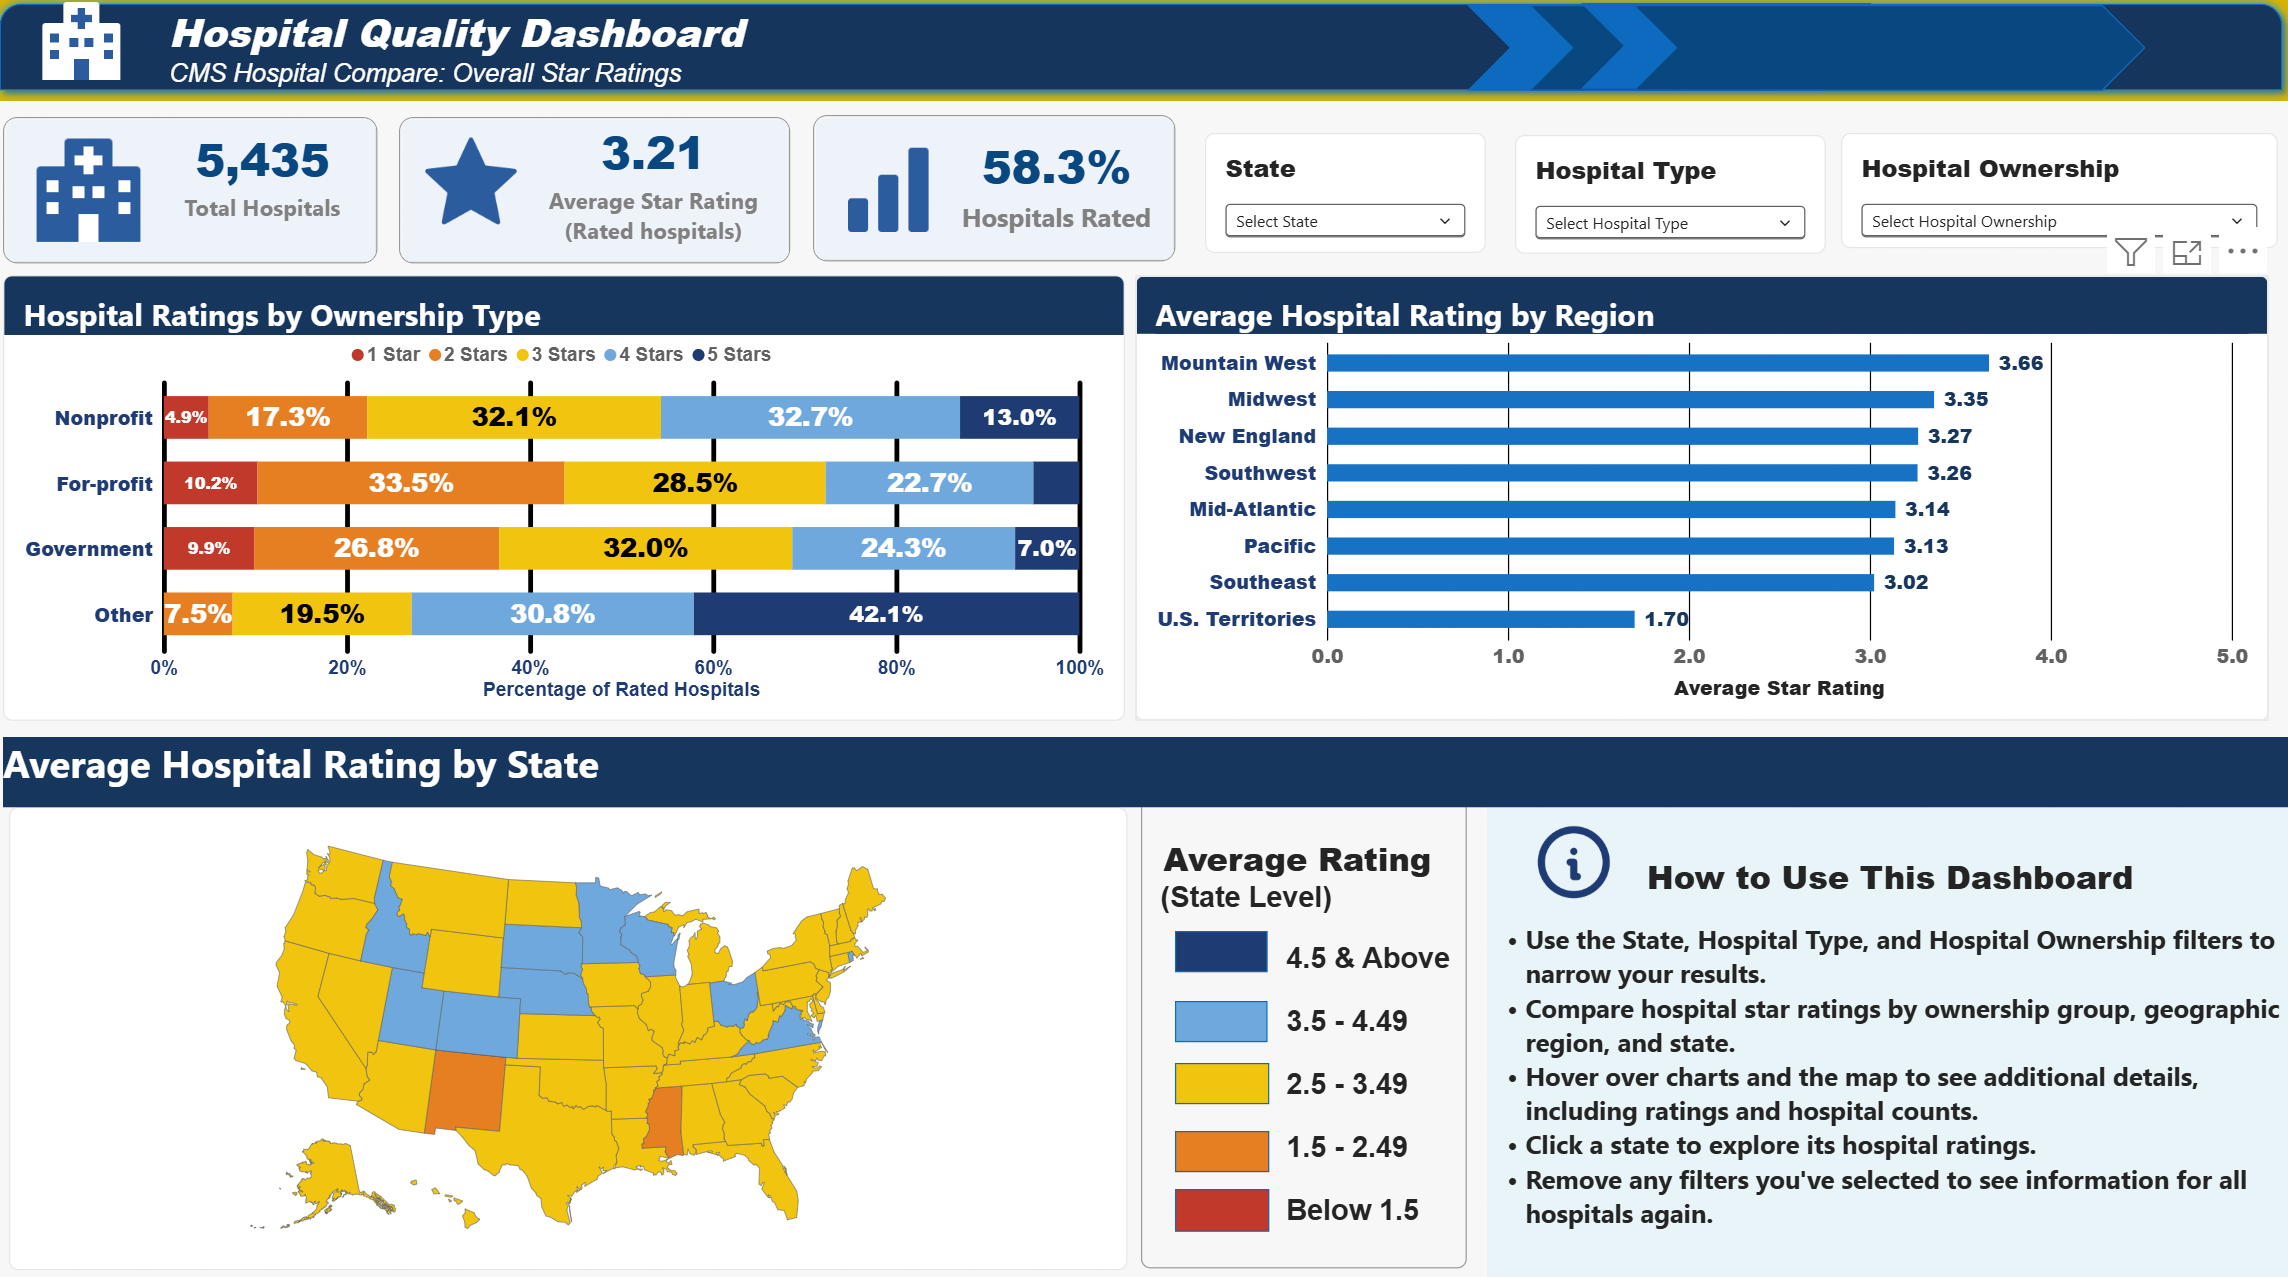

The page's visual inventory and layout, read from the dashboard file:
{"tool":"powerbi","page":{"name":"Page 1","canvas":[1920,1080],"ordinal":0},"visuals":[{"type":"cardVisual","fields":{"Data":["Hospital_General_Information_2.Hospital Count"]},"box":[12,104,312,122],"z":0},{"type":"cardVisual","title":"Average Star Rating","fields":{"Data":["Avg(Hospital_General_Information_2.Hospital overall rating)"]},"box":[342,104,326,122],"z":1000},{"type":"cardVisual","fields":{"Data":["Hospital_General_Information_2.Hospitals Rated"]},"box":[686,102,302,122],"z":2000},{"type":"listSlicer","fields":{"Values":["Hospital_General_Information_2.State"]},"box":[1014,116,234,100],"z":3000},{"type":"listSlicer","fields":{"Values":["Hospital_General_Information_2.Hospital Type"]},"box":[1272,118,258.8,98.8],"z":4000},{"type":"listSlicer","fields":{"Values":["Hospital_General_Information_2.Hospital Ownership"]},"box":[1544,116,364,96],"z":5000},{"type":"hundredPercentStackedBarChart","title":"Hospital Ratings by Ownership Type","fields":{"Category":["Hospital_General_Information_2.Ownership Group"],"Series":["Hospital_General_Information_2.Rating Legend"],"Y":["CountNonNull(Hospital_General_Information_2.Total Hospitals)"]},"box":[11.7,235,935,371.7],"z":6000},{"type":"shape","box":[0,0,1920,90],"z":7000},{"type":"textbox","box":[150,10,582.9,84.3],"z":8000},{"type":"image","box":[25.7,0,104.3,80],"z":9000},{"type":"shape","box":[1231.4,10,277.1,71.4],"z":10000},{"type":"shape","box":[1282.9,10,277.1,71.4],"z":11000},{"type":"shape","box":[1327.1,8.6,277.1,71.4],"z":12000},{"type":"shape","box":[1370,10,427.1,71.4],"z":13000},{"type":"clusteredBarChart","title":"Average Hospital Rating by Region","fields":{"Category":["Hospital_General_Information_2.U.S. Region"],"Y":["Avg(Hospital_General_Information_2.Hospital overall rating)"]},"box":[955,235,945,371.7],"z":14000},{"type":"shapeMap","title":"Average Hospital Rating by State","fields":{"Category":["Hospital_General_Information_2.State"]},"box":[16,678,932,386],"z":15000},{"type":"shape","box":[988,948,78.6,34.3],"z":16000},{"type":"shape","box":[988,892,78.6,34.3],"z":17000},{"type":"shape","box":[988,840,77.1,34.3],"z":18000},{"type":"shape","box":[988,996,78.6,35.7],"z":19000},{"type":"shape","box":[988,782,77.1,34.3],"z":20000},{"type":"textbox","box":[960,648.6,271.4,414.3],"z":21000},{"type":"textbox","box":[1248,634,672,448],"z":22000},{"type":"image","box":[1272,688,98,72],"z":23000},{"type":"shape","title":"Average Hospital Rating by State","box":[11.4,620,1908.6,58.6],"z":24000}]}

Visuals, with their boxes in screenshot pixels (x1, y1, x2, y2), scaled from the page's 1920x1080 canvas onto the 2288x1277 screenshot:
cardVisual - Hospital_General_Information_2.Hospital Count: 14 123 386 267
"Average Star Rating" cardVisual: 408 123 796 267
cardVisual - Hospital_General_Information_2.Hospitals Rated: 817 121 1177 265
listSlicer - Hospital_General_Information_2.State: 1208 137 1487 255
listSlicer - Hospital_General_Information_2.Hospital Type: 1516 140 1824 256
listSlicer - Hospital_General_Information_2.Hospital Ownership: 1840 137 2274 251
"Hospital Ratings by Ownership Type" hundredPercentStackedBarChart: 14 278 1128 717
shape: 0 0 2287 106
textbox: 179 12 873 112
image: 31 0 155 95
shape: 1467 12 1798 96
shape: 1529 12 1859 96
shape: 1581 10 1912 95
shape: 1633 12 2142 96
"Average Hospital Rating by Region" clusteredBarChart: 1138 278 2264 717
"Average Hospital Rating by State" shapeMap: 19 802 1130 1258
shape: 1177 1121 1271 1161
shape: 1177 1055 1271 1095
shape: 1177 993 1269 1034
shape: 1177 1178 1271 1220
shape: 1177 925 1269 965
textbox: 1144 767 1467 1257
textbox: 1487 750 2287 1276
image: 1516 813 1633 899
"Average Hospital Rating by State" shape: 14 733 2287 802
